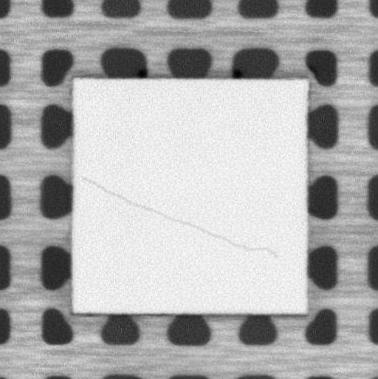DIE_CRACK: (84, 177, 278, 260)
